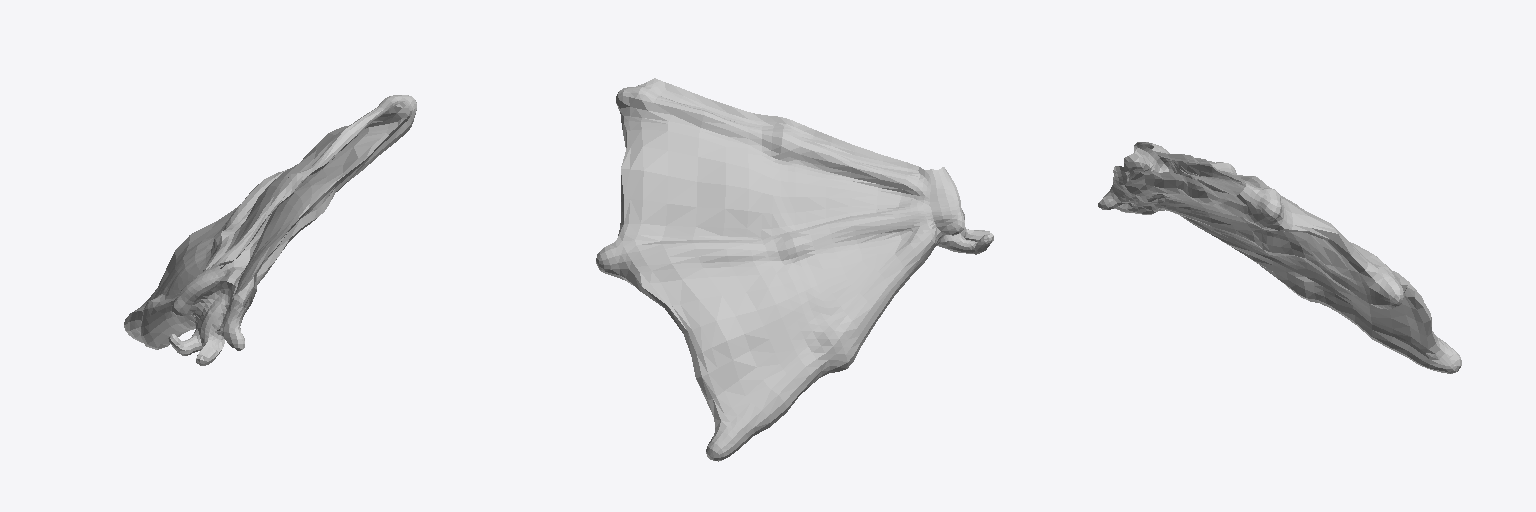
The model's file is AlaD2.obj.
3 views of the same model, side by side, from view 1: azimuth 30°, elevation 25°; view 2: azimuth 150°, elevation 25°; view 3: azimuth 270°, elevation 25° (orthographic).
Visible parts, largest first — view 1: 17174_Tiamat_new.003; view 2: 17174_Tiamat_new.003; view 3: 17174_Tiamat_new.003.
Part boxes in pixels (x1,y1,x2,y2): 17174_Tiamat_new.003: (124, 95, 416, 365); 17174_Tiamat_new.003: (596, 78, 993, 461); 17174_Tiamat_new.003: (1098, 142, 1461, 373).
Size of the model in its own units: 6.31 by 5.19 by 6.4.